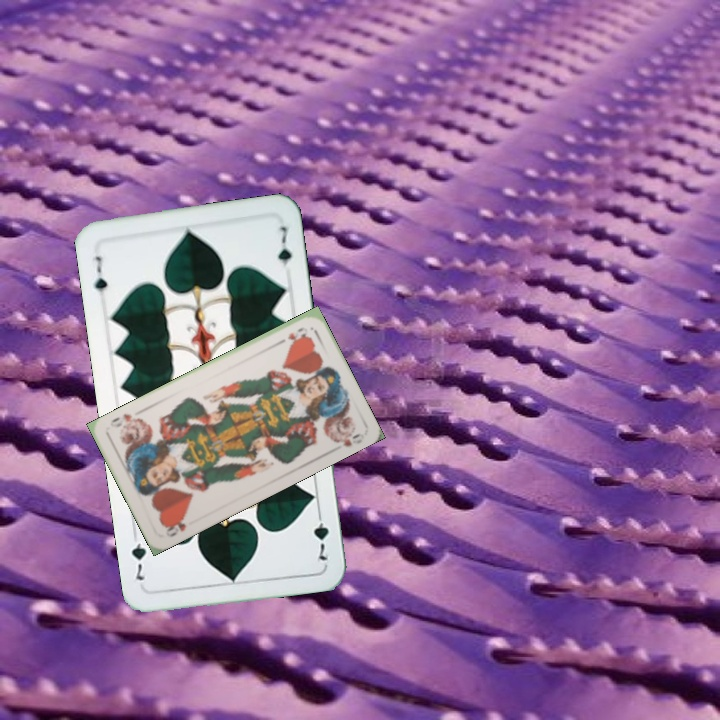G7: (309, 506, 332, 563), (90, 252, 110, 303)
HO: (273, 323, 310, 347), (161, 514, 188, 540)
